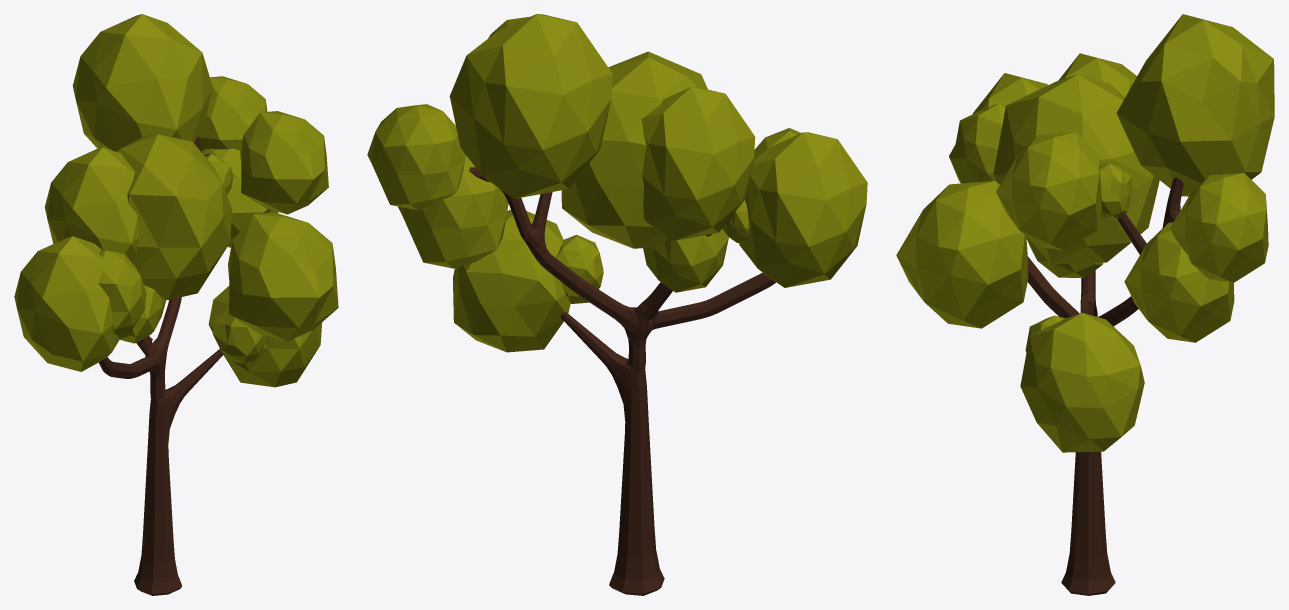
The model's file is tree2.fbx.
3 views of the same model, side by side, from view 1: azimuth 30°, elevation 25°; view 2: azimuth 150°, elevation 25°; view 3: azimuth 270°, elevation 25° (orthographic). The views are drawn at different scales.
Parts seen in each view (by area): view 1: tree2; view 2: tree2; view 3: tree2.
Part boxes in pixels (bbox=[...]): tree2: bbox=[14, 14, 338, 595]; tree2: bbox=[367, 14, 867, 595]; tree2: bbox=[896, 14, 1274, 595].
Bounding box in the file's own units: 2855 × 4377 × 2556.
